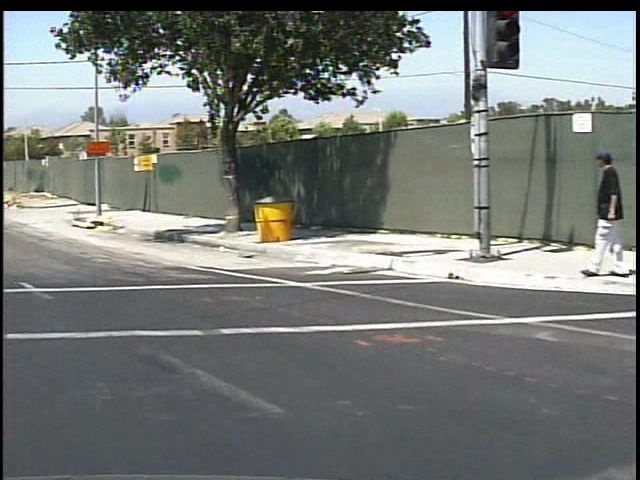person: (570, 144, 617, 288)
